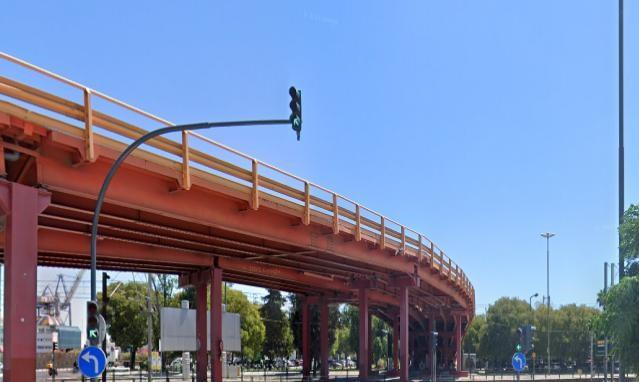green_light: (289, 87, 302, 131), (87, 301, 99, 339), (515, 328, 523, 351)
